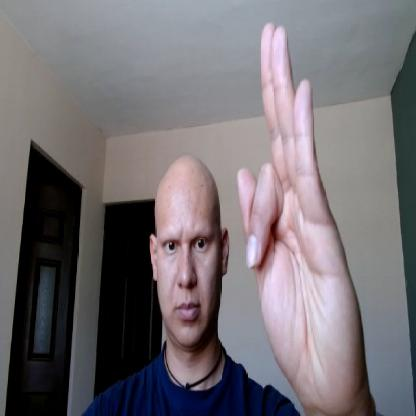F: (235, 21, 363, 415)
